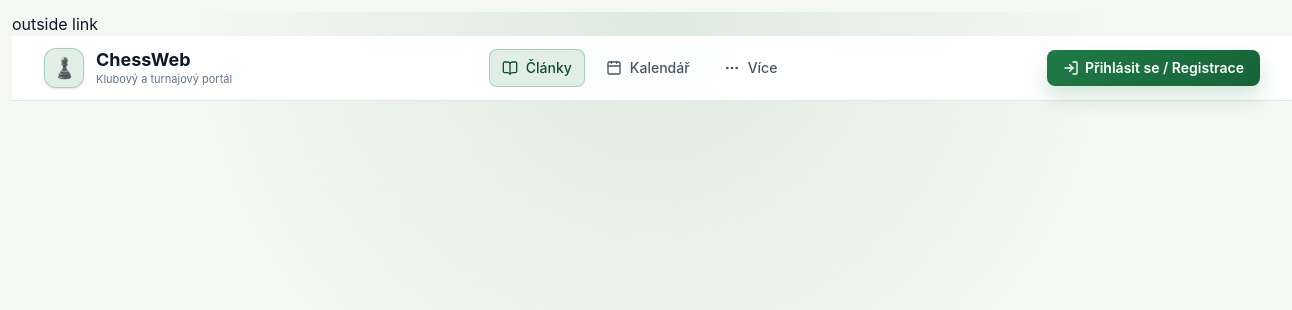
Test: Navbar Component › More menu › closes when clicking outside
The width and height of the screenshot is (1292, 310).
Click the button "Více" at x=750, y=68, box [711,49,790,87]
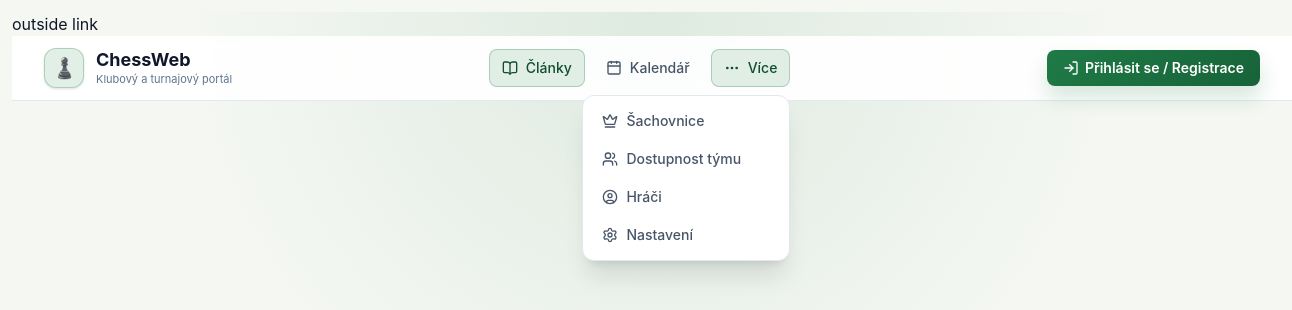
Now the button "Více" is expanded, box [711,49,790,87]
Press the mouse on the element with test id "outside" at x=55, y=24, box [12,14,98,34]
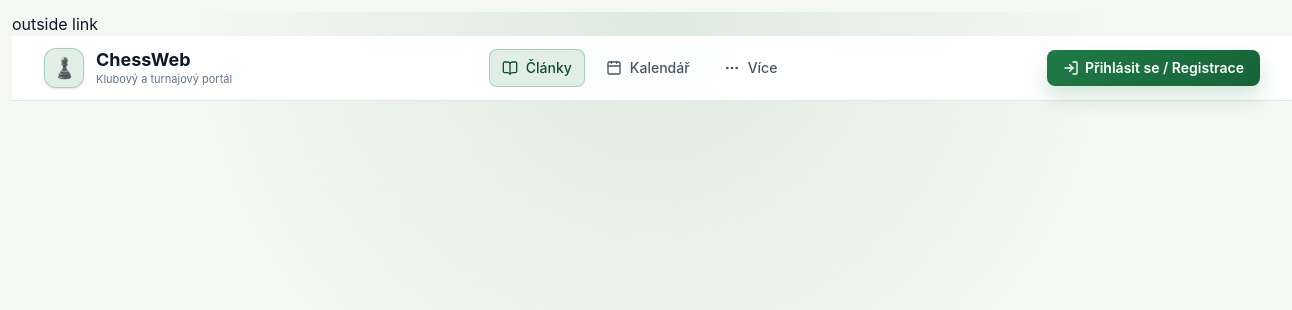
Now the button "Více" is collapsed, box [711,49,790,87]
Now the element with id "nav-more-desktop" is gone
